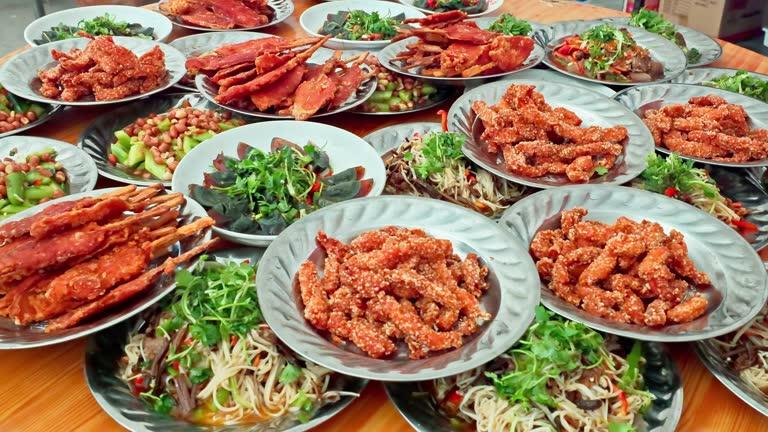Braised Crucian Carp: (255, 193, 547, 380), (81, 252, 357, 428), (499, 183, 761, 339), (0, 185, 214, 347), (385, 333, 677, 430), (173, 118, 380, 245), (449, 74, 649, 189), (614, 80, 768, 169), (74, 93, 217, 186), (5, 36, 187, 107), (191, 51, 376, 120), (531, 16, 696, 85), (377, 32, 532, 82)
